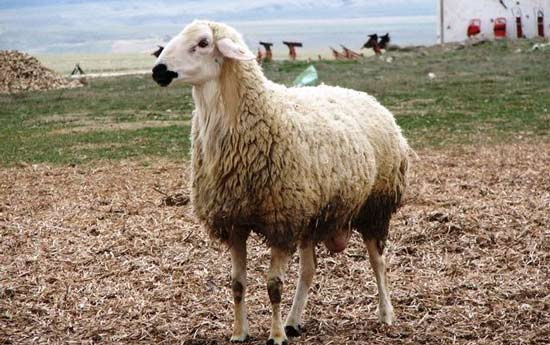koyun: (151, 19, 415, 345)
